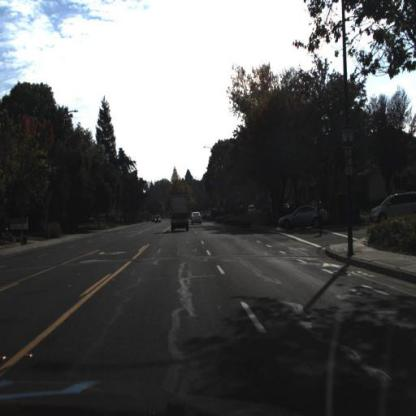car: (369, 191, 416, 230), (277, 202, 325, 230), (170, 191, 193, 235), (190, 210, 204, 228)
pedestrian: (317, 197, 329, 239), (317, 202, 325, 236)
truck: (169, 186, 192, 234)
